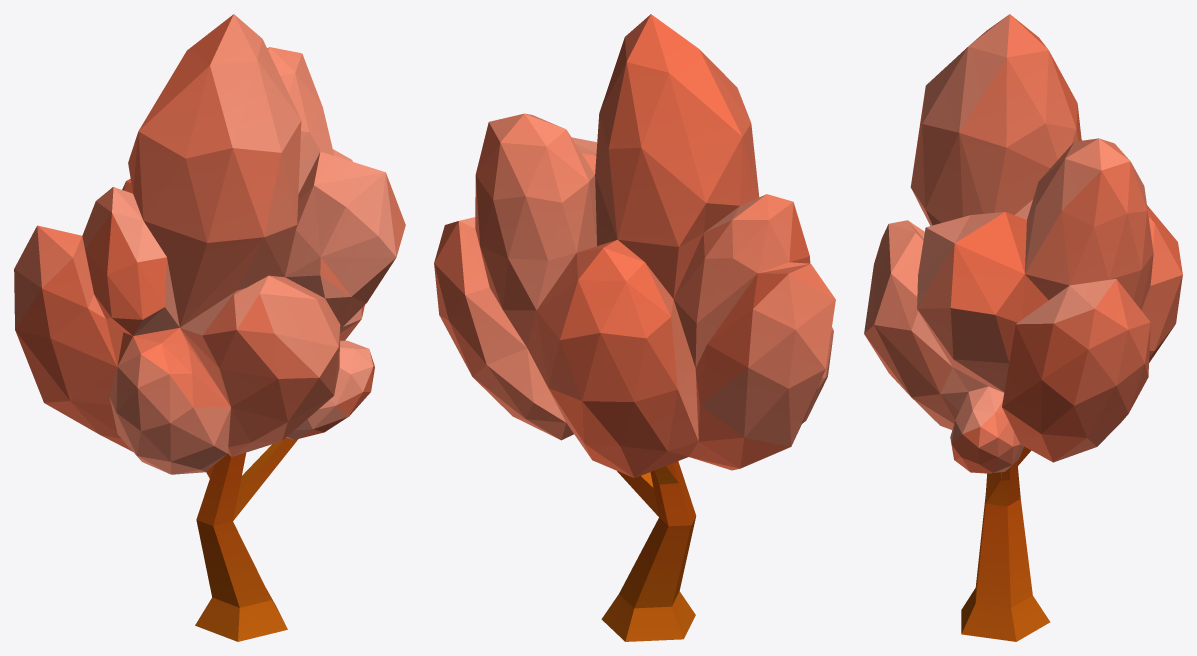
Rendered from TreeOakPink.fbx.
3 views of the same model, side by side, from view 1: azimuth 30°, elevation 25°; view 2: azimuth 150°, elevation 25°; view 3: azimuth 270°, elevation 25° (orthographic).
Parts seen in each view (by area): view 1: TreeOakPink_LOD0; view 2: TreeOakPink_LOD0; view 3: TreeOakPink_LOD0.
Part boxes in pixels (x1,y1,x2,y2): TreeOakPink_LOD0: (14,14,405,641); TreeOakPink_LOD0: (434,14,835,641); TreeOakPink_LOD0: (864,14,1182,641).
Size of what is drawn, in the model's own units: 522 by 826 by 394.
